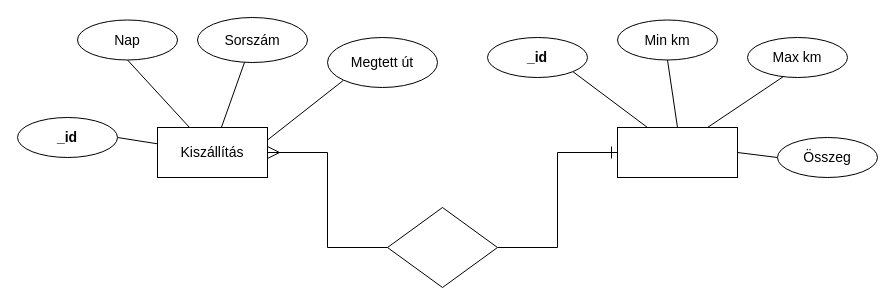
Some shapes in this 895 by 305 pixel diagram are drawn without their labels. Each missing label, with the centre of its shape:
"Díjazás" belongs at (x=677, y=152).
"Fizetés" belongs at (x=442, y=247).
